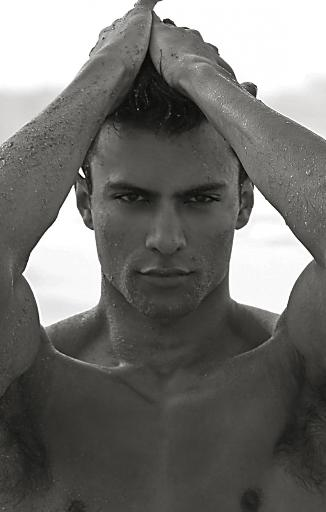left_eye: (182, 193, 223, 209)
left_lip_corner: (186, 267, 200, 286)
right_eye: (112, 191, 151, 207)
right_lip_corner: (133, 266, 148, 286)
